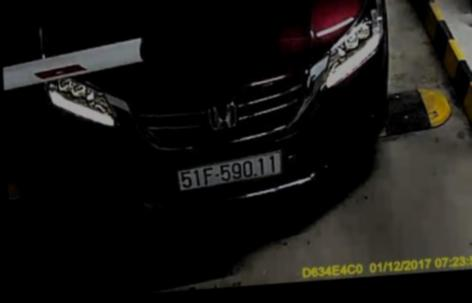License_Plate: (178, 154, 286, 189)
